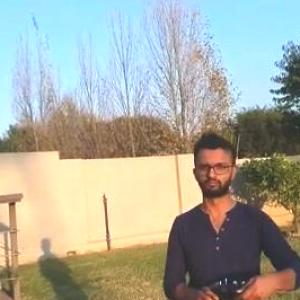follow: (159, 127, 299, 299)
